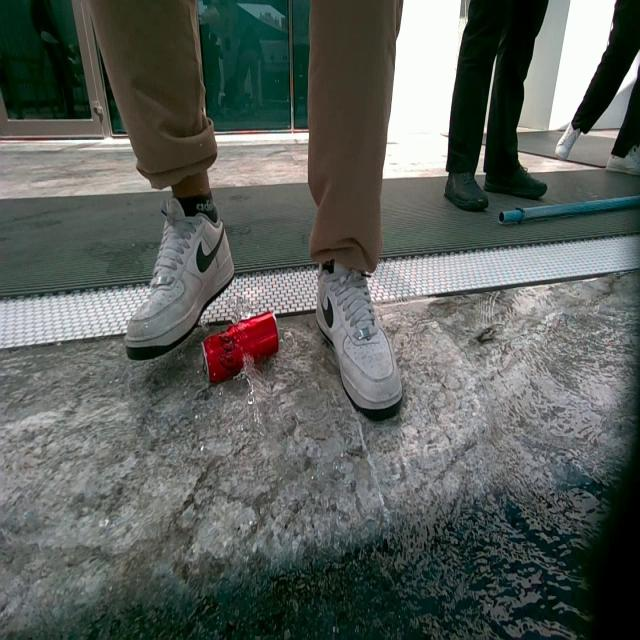Cans: (202, 316, 278, 388)
